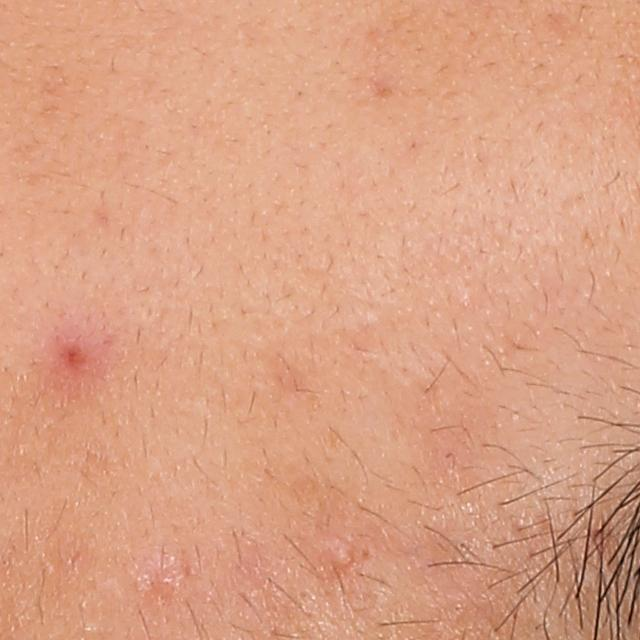papule: (58, 336, 97, 371)
